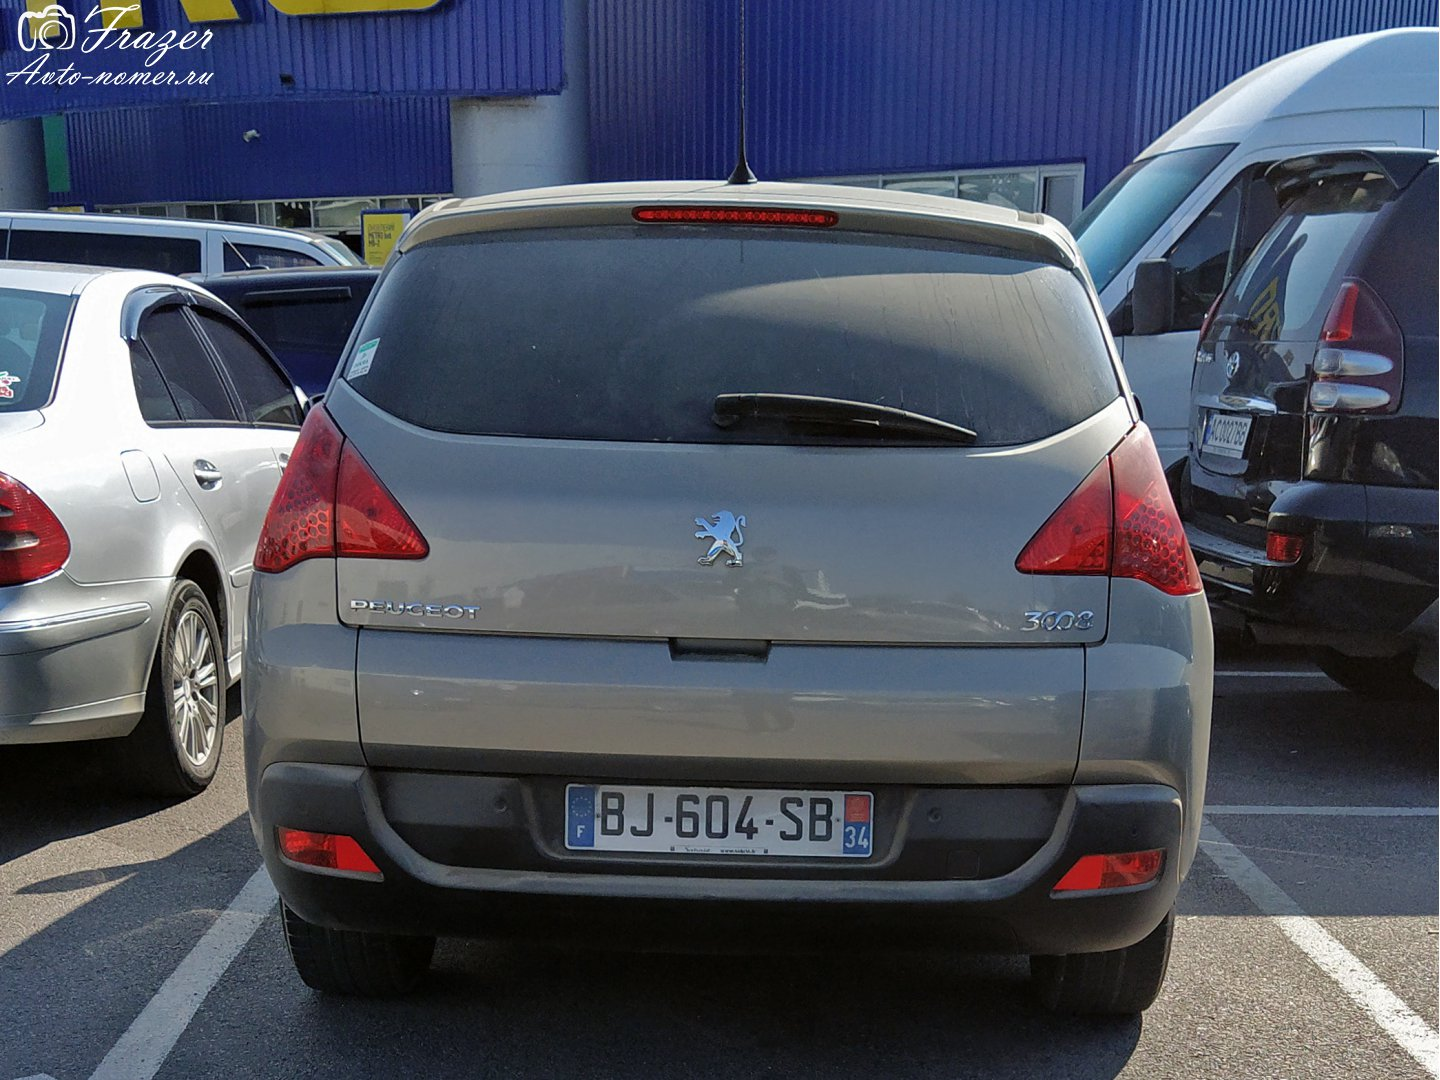licence plate: (563, 778, 877, 863)
